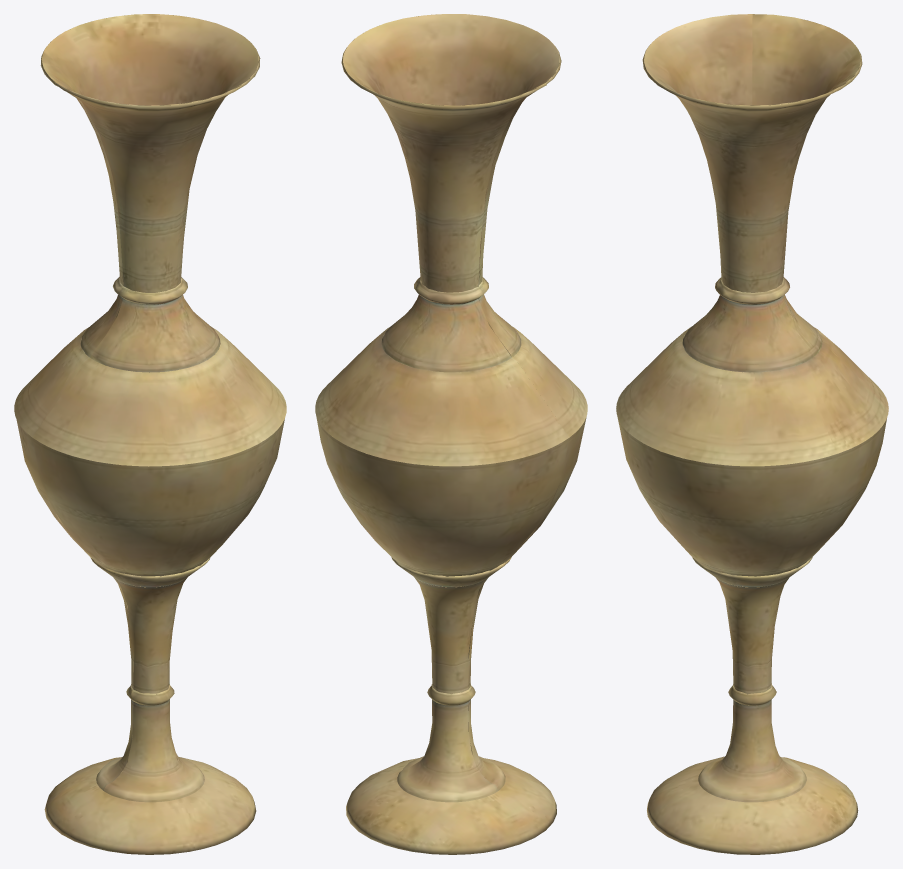
Rendered from vase.glb.
3 views of the same model, side by side, from view 1: azimuth 30°, elevation 25°; view 2: azimuth 150°, elevation 25°; view 3: azimuth 270°, elevation 25° (orthographic).
Visible parts, largest first — view 1: vase; view 2: vase; view 3: vase.
Part boxes in pixels (x1,y1,x2,y2): vase: (14,14,286,854); vase: (315,14,587,854); vase: (616,14,888,854).
Size of the model in its own units: 0.228 by 0.6928 by 0.228.
1 material, 1 textured.
